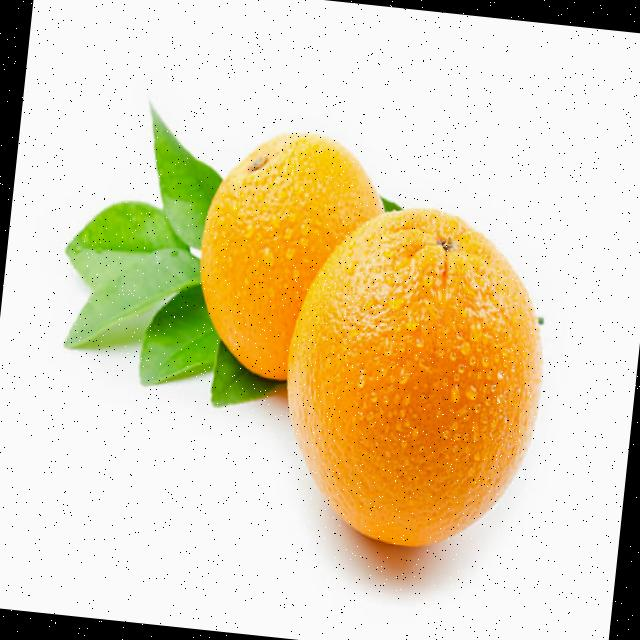Ripe: (265, 188, 560, 560), (179, 120, 344, 385)
